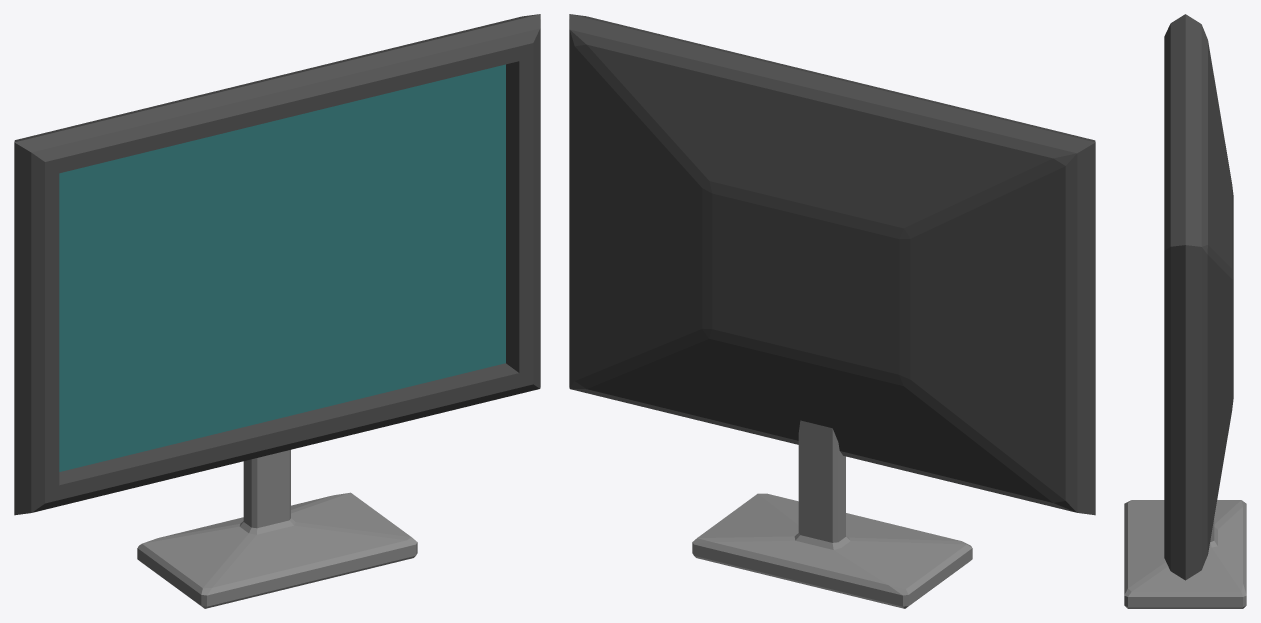
Rendered from Monitor.glb.
3 views of the same model, side by side, from view 1: azimuth 30°, elevation 25°; view 2: azimuth 150°, elevation 25°; view 3: azimuth 270°, elevation 25° (orthographic). The views are drawn at different scales.
Parts seen in each view (by area): view 1: Monitor; view 2: Monitor; view 3: Monitor.
Part boxes in pixels (<box>): Monitor: <box>14,14,540,608</box>; Monitor: <box>569,14,1095,608</box>; Monitor: <box>1124,14,1246,608</box>.
Bounding box in the file's own units: 453 × 397 × 102.
